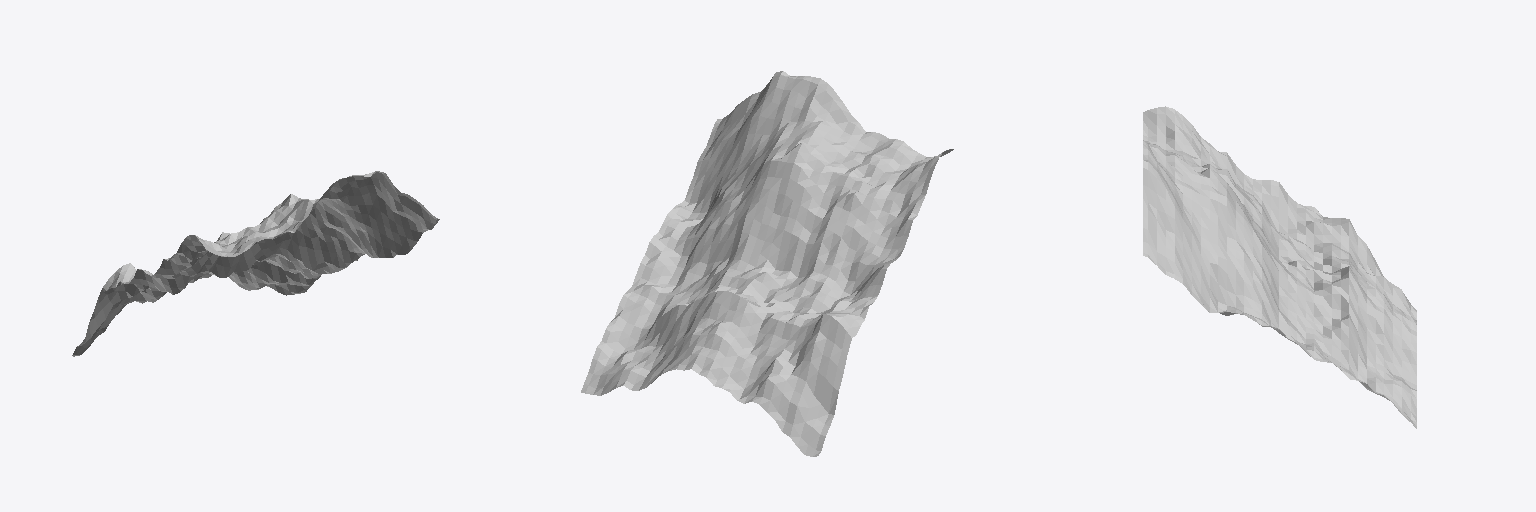
File: terrain_-2_-2.obj
3 views of the same model, side by side, from view 1: azimuth 30°, elevation 25°; view 2: azimuth 150°, elevation 25°; view 3: azimuth 270°, elevation 25° (orthographic).
Parts seen in each view (by area): view 1: terrain_-2_-2_Plane.068; view 2: terrain_-2_-2_Plane.068; view 3: terrain_-2_-2_Plane.068.
Part boxes in pixels (x1,y1,x2,y2): terrain_-2_-2_Plane.068: (72,171,439,356); terrain_-2_-2_Plane.068: (581,71,953,456); terrain_-2_-2_Plane.068: (1143,106,1416,428).
Bounding box in the file's own units: 32 × 31.79 × 32.